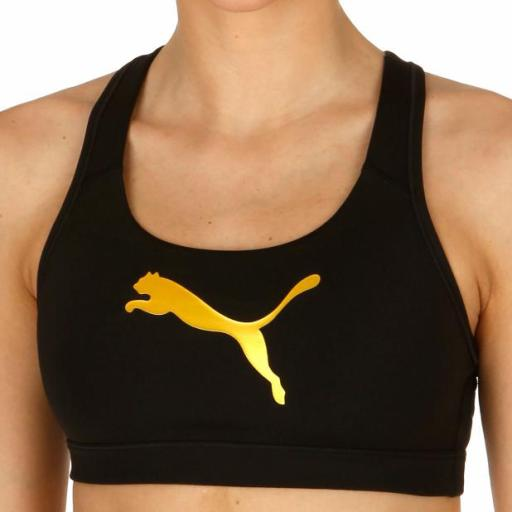Puma: (121, 267, 326, 410)
